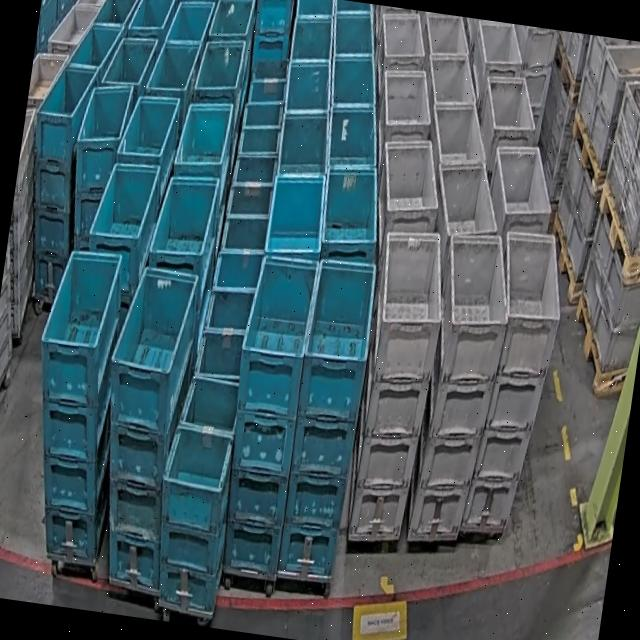4G: (404, 226, 521, 554), (458, 226, 572, 546), (344, 224, 454, 547)
B4: (10, 244, 143, 566), (80, 262, 207, 591), (209, 250, 320, 580), (272, 253, 382, 582), (11, 61, 99, 310), (61, 75, 136, 256), (238, 572, 242, 576)
B8: (144, 373, 248, 615)
